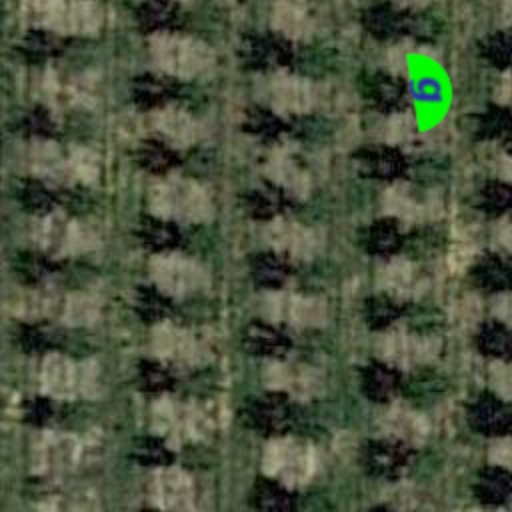semicircle: (386, 44, 478, 136)
